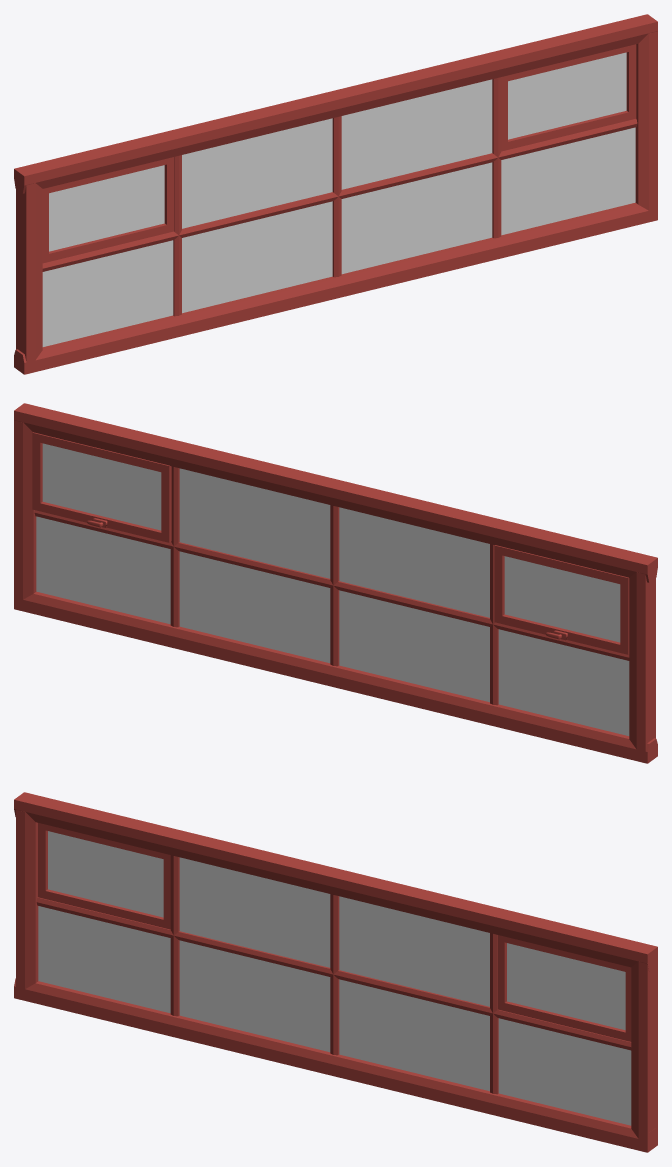
File: LivingroomWindow.fbx
3 views of the same model, one above another, from view 1: azimuth 30°, elevation 25°; view 2: azimuth 150°, elevation 25°; view 3: azimuth 330°, elevation 25° (orthographic).
Visible parts, largest first — view 1: WindowFrame, Window.001, Window; view 2: WindowFrame, Window.001, Window; view 3: WindowFrame, Window.001, Window.
Part boxes in pixels (bbox=[...]): WindowFrame: bbox=[14, 14, 657, 374]; Window.001: bbox=[501, 44, 636, 151]; Window: bbox=[42, 157, 173, 263]; WindowFrame: bbox=[14, 403, 657, 763]; Window.001: bbox=[32, 432, 171, 542]; Window: bbox=[494, 545, 629, 654]; WindowFrame: bbox=[14, 792, 657, 1152]; Window.001: bbox=[498, 935, 631, 1041]; Window: bbox=[38, 823, 170, 929].
Bounding box in the file's own units: 794 × 238 × 29.
